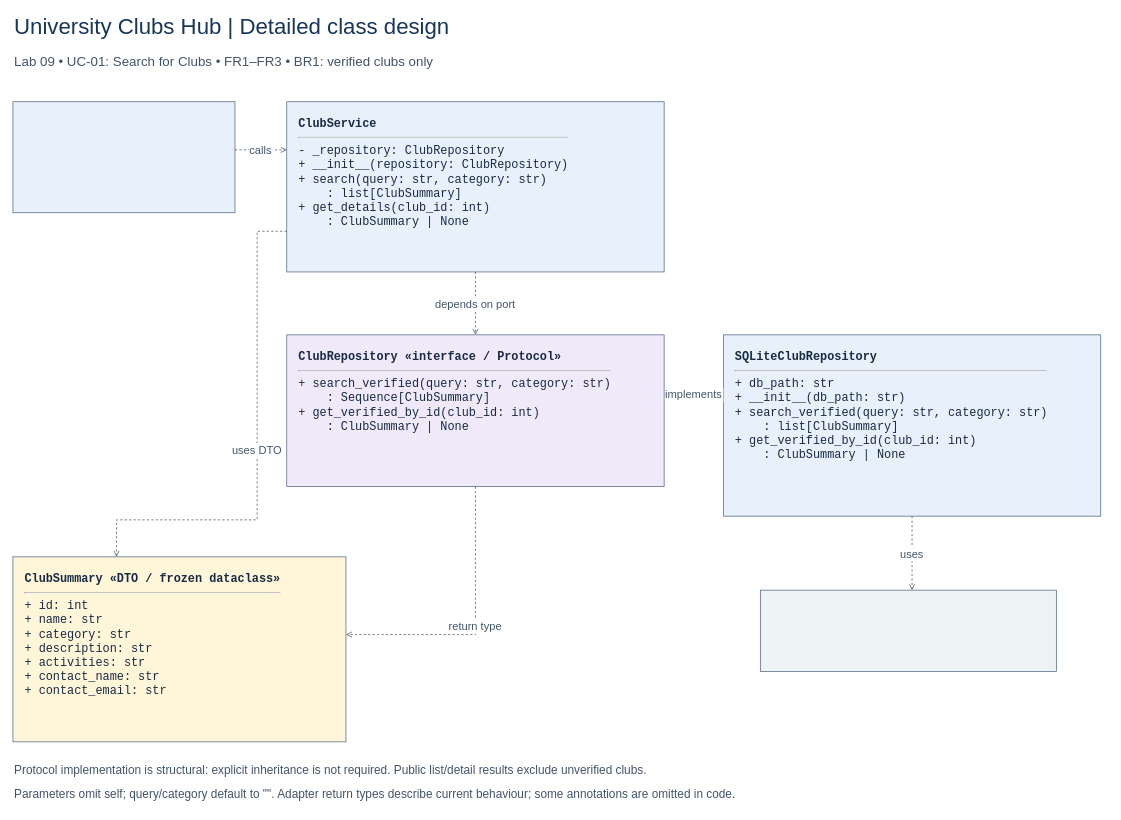
Image size: 1121x820. Some labels were removed from this diagram. The centre of each missing label's shape, as x and y in pixels:
"Handler + do_GET() - _json(status, payload)" goes at pixel 123 157.
"sqlite3 «standard library» SQLite connection and SQL execution" goes at pixel 908 630.
